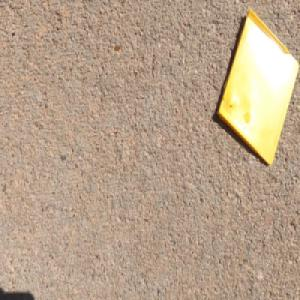PlasticPart: (216, 6, 299, 167)
